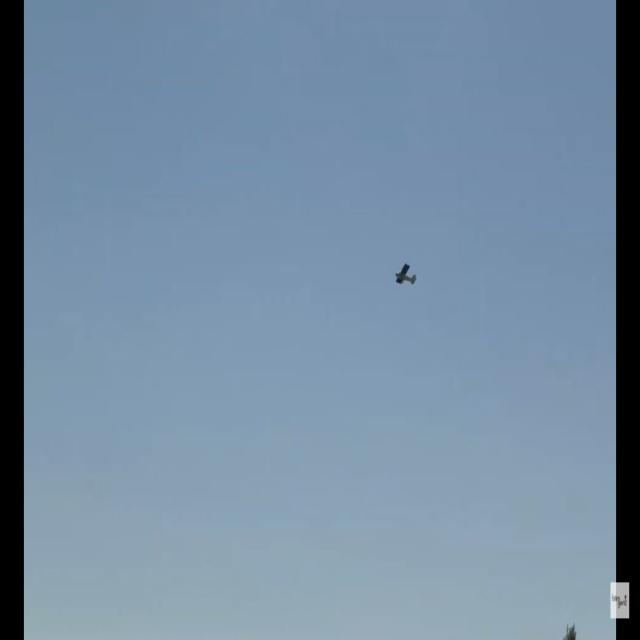iha: (394, 262, 416, 286)
